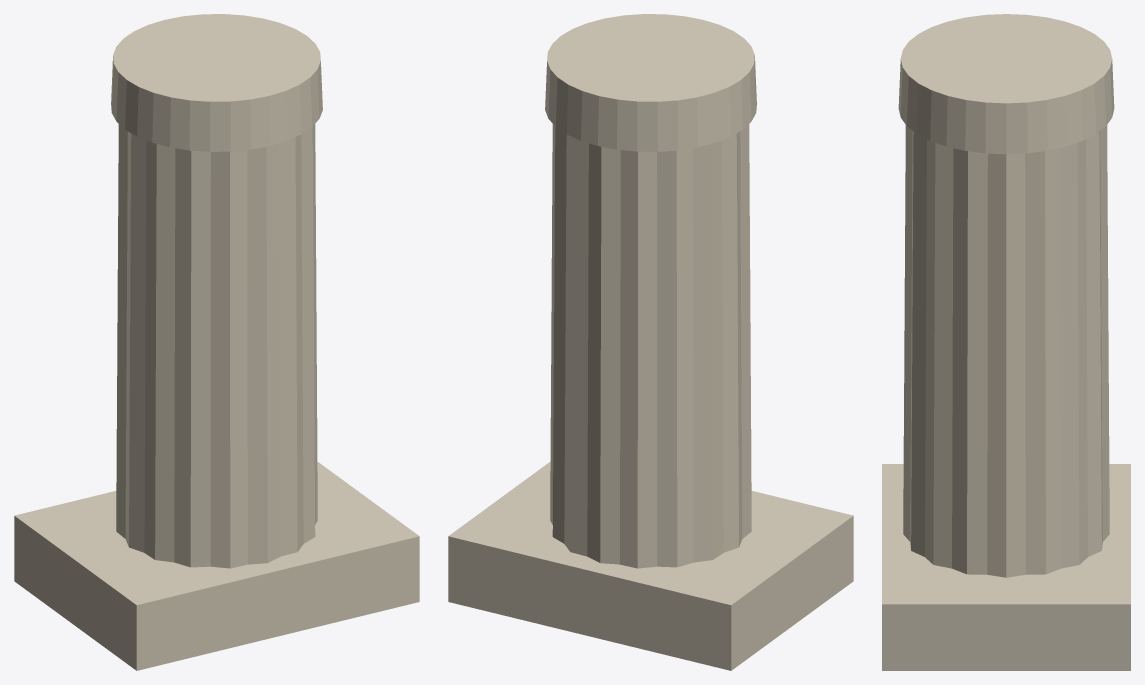
File: coit-tower_lod0.glb
3 views of the same model, side by side, from view 1: azimuth 30°, elevation 25°; view 2: azimuth 150°, elevation 25°; view 3: azimuth 270°, elevation 25° (orthographic).
Visible parts, largest first — view 1: coit-tower_lod0_stone; view 2: coit-tower_lod0_stone; view 3: coit-tower_lod0_stone.
Part boxes in pixels (bbox=[...]): coit-tower_lod0_stone: bbox=[14, 14, 419, 670]; coit-tower_lod0_stone: bbox=[448, 14, 853, 670]; coit-tower_lod0_stone: bbox=[882, 14, 1130, 670].
Bounding box in the file's own units: 36.06 × 65 × 27.04.
